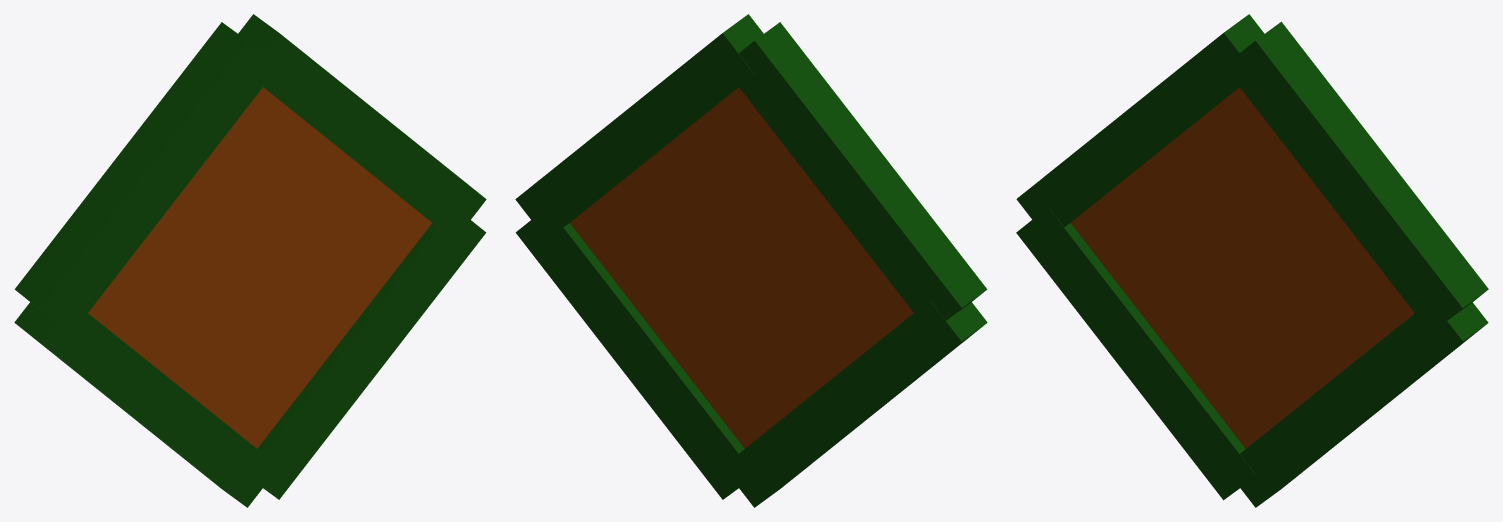
Rendered from SkyAbsolver.fbx.
3 renders of one model, left to right at view 1: azimuth 30°, elevation 25°; view 2: azimuth 150°, elevation 25°; view 3: azimuth 330°, elevation 25°, orthographic.
Visible parts, largest first — view 1: Cube.003, Cube.005; view 2: Cube.003, Cube.005; view 3: Cube.003, Cube.005.
Boxes of the visible parts, x1=… form: Cube.003: x1=14, y1=14, x2=486, y2=507; Cube.005: x1=88, y1=87, x2=431, y2=448; Cube.003: x1=515, y1=14, x2=987, y2=507; Cube.005: x1=570, y1=87, x2=913, y2=448; Cube.003: x1=1016, y1=14, x2=1488, y2=507; Cube.005: x1=1071, y1=87, x2=1414, y2=448.
Size of the model in its own units: 198 by 198 by 20.
